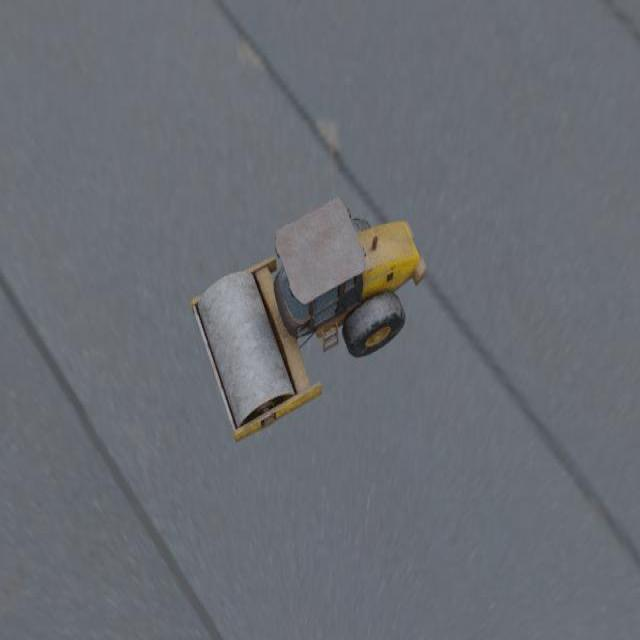Roller: (189, 197, 427, 443)
